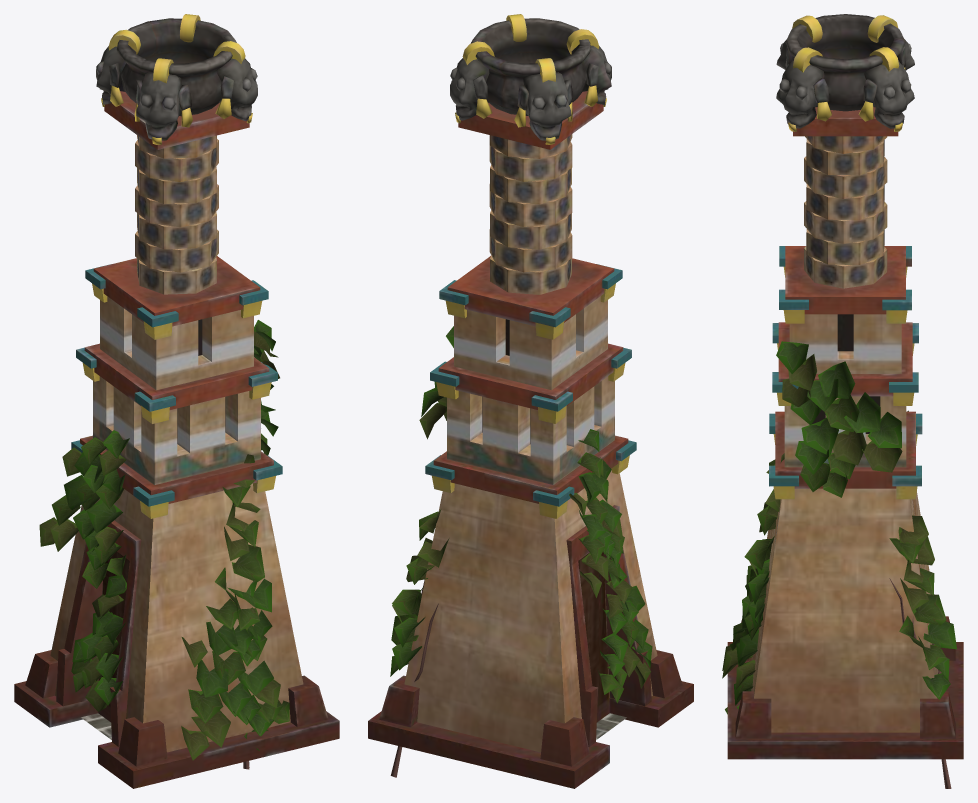
Rendered from 70-watchtower-tzompantli_tower_z_age4.glb.
3 views of the same model, side by side, from view 1: azimuth 30°, elevation 25°; view 2: azimuth 150°, elevation 25°; view 3: azimuth 270°, elevation 25° (orthographic).
Bounding box in the file's own units: 2.45 × 8.16 × 2.5.
Materials: 4 (4 with a texture image).
